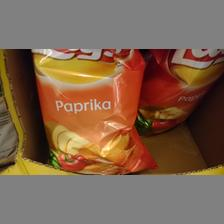Chips: (30, 49, 156, 171), (141, 49, 223, 135)
